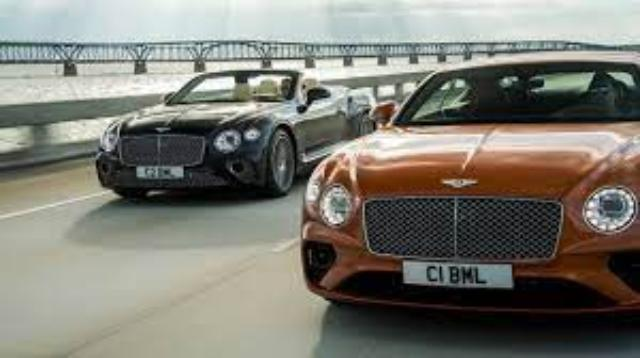bentley: (298, 49, 640, 322), (95, 70, 377, 198)
